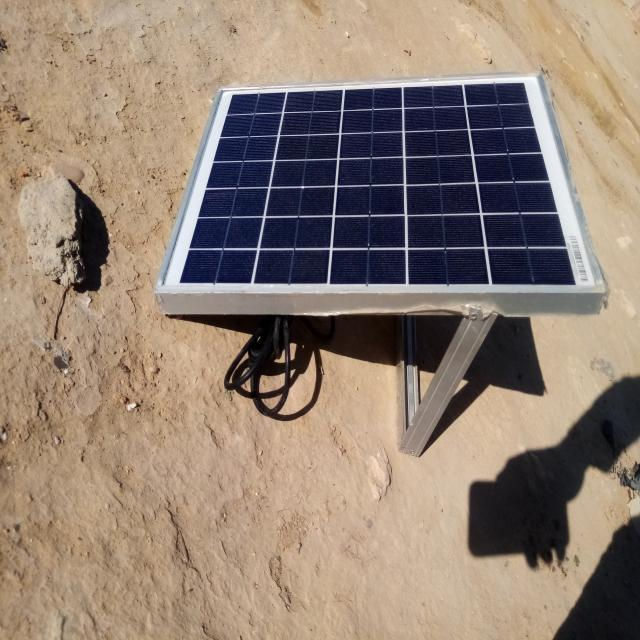no faulty: (154, 70, 602, 295)
